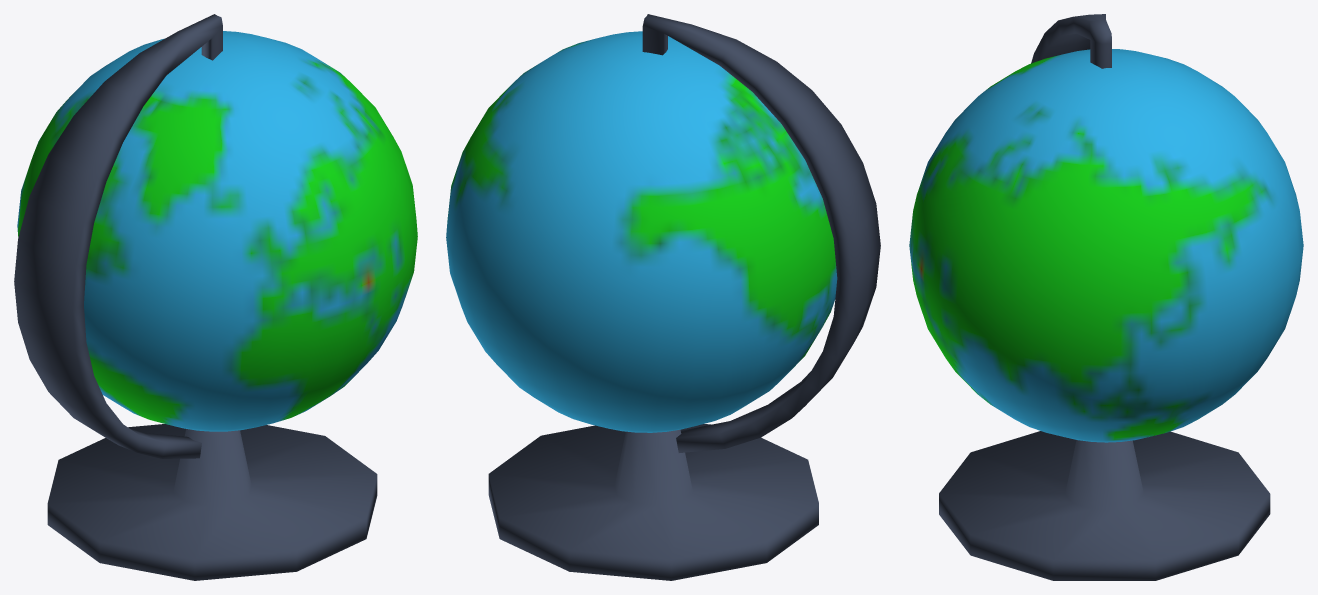
Rendered from Globe.fbx.
3 views of the same model, side by side, from view 1: azimuth 30°, elevation 25°; view 2: azimuth 150°, elevation 25°; view 3: azimuth 270°, elevation 25° (orthographic).
Visible parts, largest first — view 1: Globe; view 2: Globe; view 3: Globe.
Part boxes in pixels (x1=…): Globe: x1=14, y1=14, x2=417, y2=580; Globe: x1=446, y1=14, x2=880, y2=580; Globe: x1=909, y1=14, x2=1303, y2=580.
Size of the model in its own units: 0.321 by 0.3993 by 0.2952.
